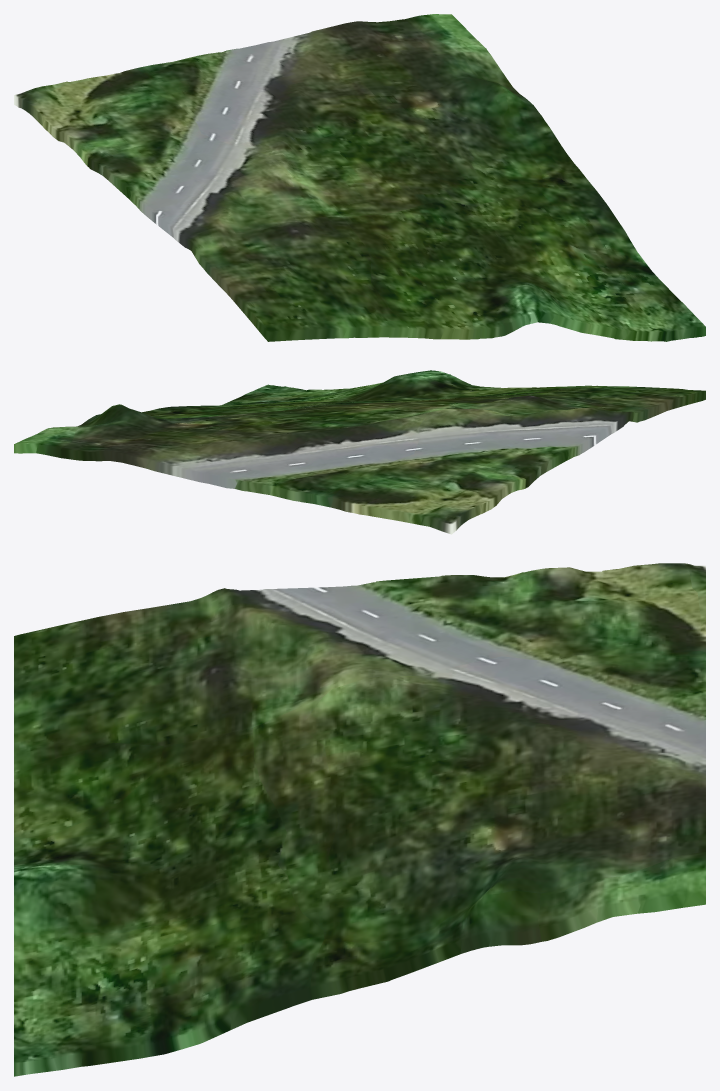
Rendered from z20-167563-405177-h0-yup-uvflip-v3-world.glb.
The picture shows the model from 3 angles, top to bottom: view 1: azimuth 30°, elevation 25°; view 2: azimuth 150°, elevation 25°; view 3: azimuth 270°, elevation 25°; orthographic projection. The views are drawn at different scales.
Bounding box in the file's own units: 30.16 × 10.84 × 30.32.
Materials: 1 (1 with a texture image).
